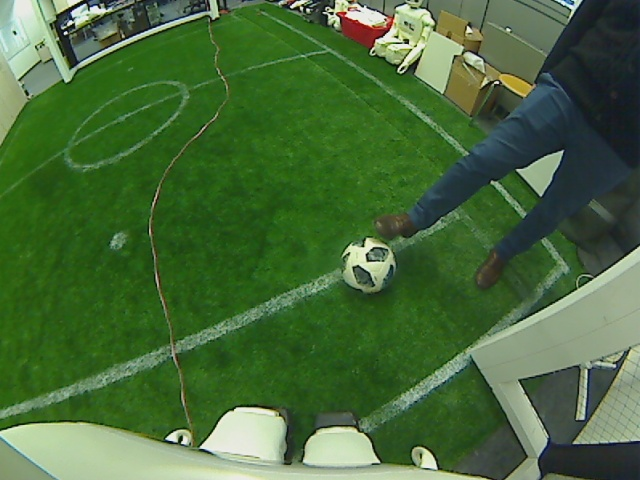ball: (340, 238, 397, 293)
